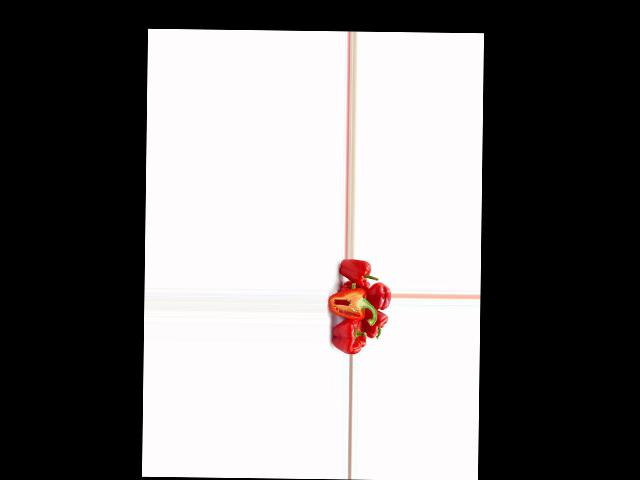bell_pepper: (363, 308, 388, 339)
